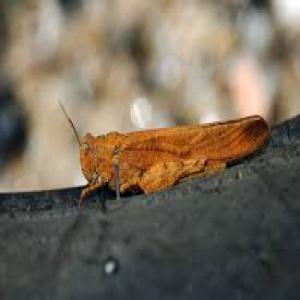locust: (60, 106, 273, 189)
